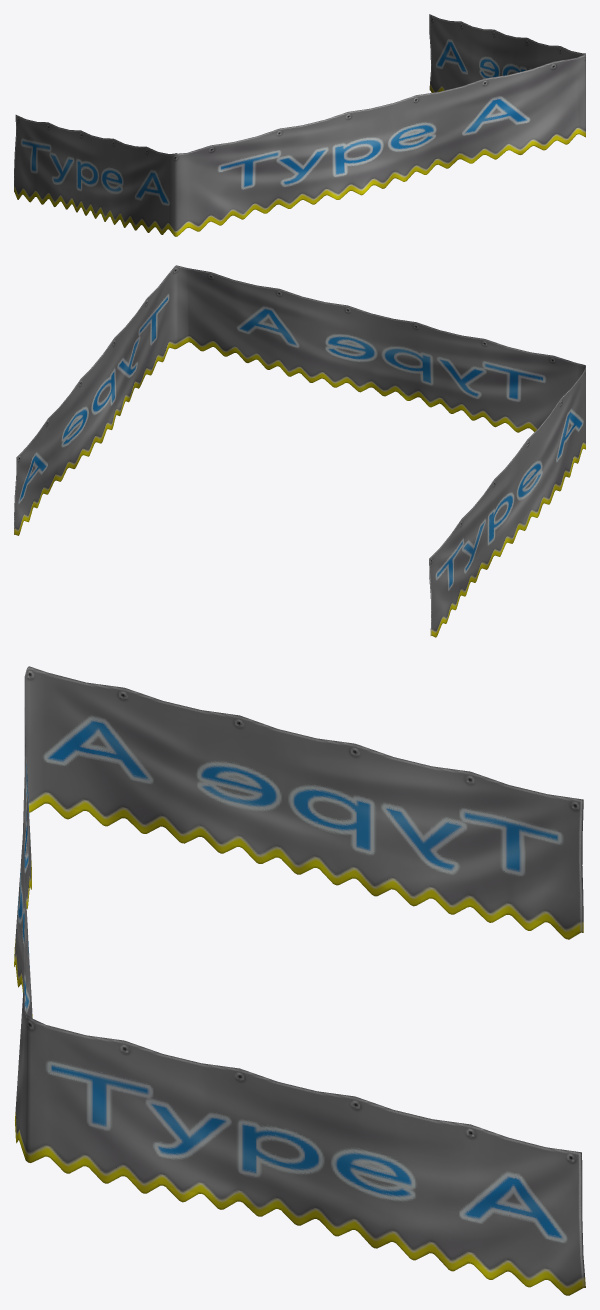
The model's file is jsf_ShopCurtain_a_s03.fbx.
The picture shows the model from 3 angles, top to bottom: view 1: azimuth 30°, elevation 25°; view 2: azimuth 150°, elevation 25°; view 3: azimuth 270°, elevation 25°; orthographic projection. The views are drawn at different scales.
Parts seen in each view (by area): view 1: jsf_ShopCurtain_a_s03; view 2: jsf_ShopCurtain_a_s03; view 3: jsf_ShopCurtain_a_s03.
Boxes of the visible parts, x1=… form: jsf_ShopCurtain_a_s03: x1=14, y1=14, x2=585, y2=236; jsf_ShopCurtain_a_s03: x1=14, y1=265, x2=585, y2=637; jsf_ShopCurtain_a_s03: x1=14, y1=666, x2=585, y2=1295.
Bounding box in the file's own units: 323 × 116 × 216.
